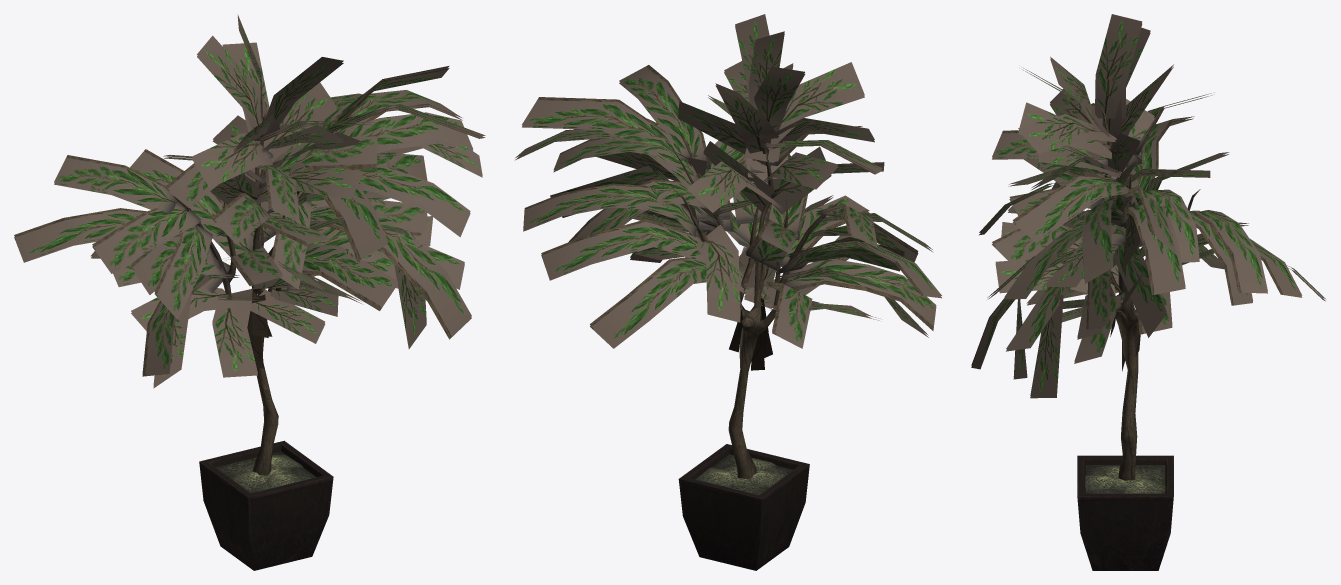
File: plant_ficus.dae
The picture shows the model from 3 angles, left to right: view 1: azimuth 30°, elevation 25°; view 2: azimuth 150°, elevation 25°; view 3: azimuth 270°, elevation 25°; orthographic projection. The views are drawn at different scales.
Parts seen in each view (by area): view 1: plant_ficus; view 2: plant_ficus; view 3: plant_ficus.
Boxes of the visible parts, x1,y1,x2,y2 form: plant_ficus: (14,14,485,570); plant_ficus: (515,14,941,570); plant_ficus: (971,14,1326,570).
Bounding box in the file's own units: 110 × 130 × 79.48.
